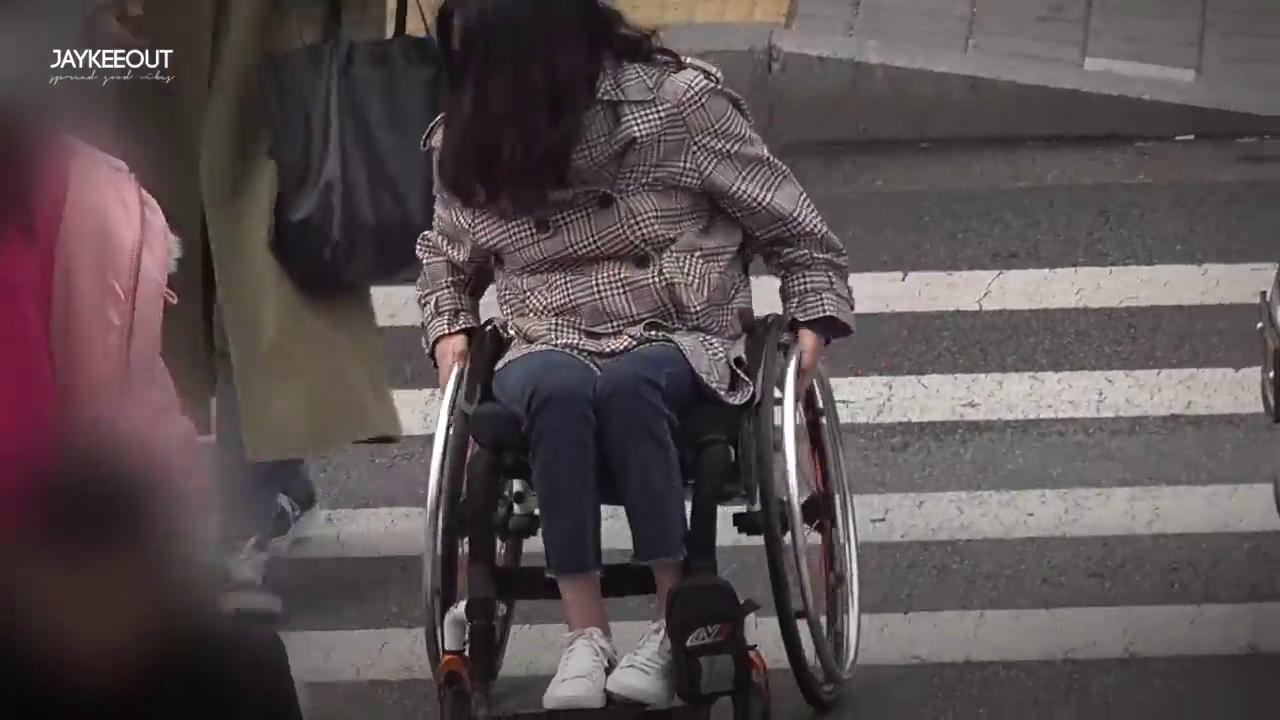wheelchair: (417, 5, 865, 715)
